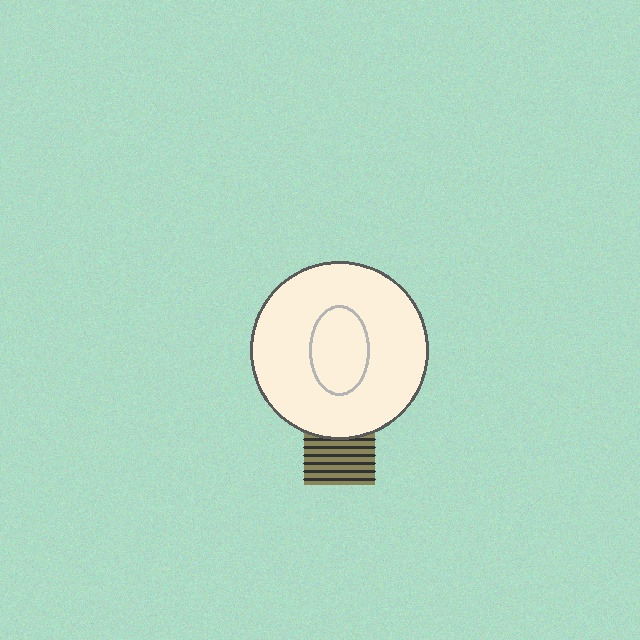bulb: (246, 257, 432, 489)
